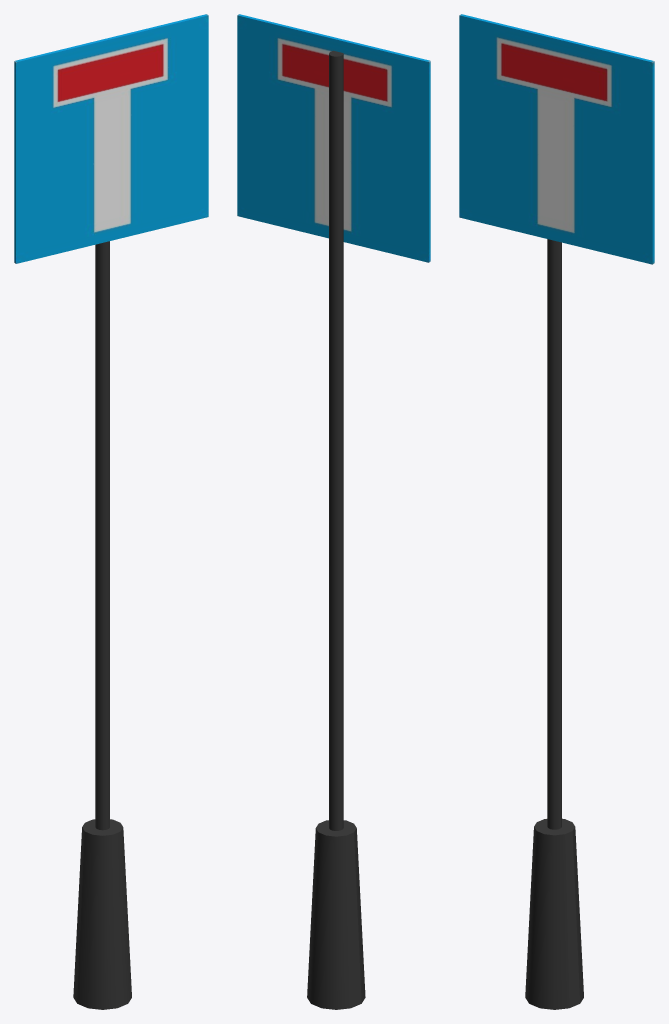
File: sign 3.FBX
3 views of the same model, side by side, from view 1: azimuth 30°, elevation 25°; view 2: azimuth 150°, elevation 25°; view 3: azimuth 330°, elevation 25° (orthographic).
Visible parts, largest first — view 1: Rectangle001, Cylinder021; view 2: Rectangle001, Cylinder021; view 3: Rectangle001, Cylinder021.
Boxes of the visible parts, x1,y1,x2,y2 form: Rectangle001: [14, 14, 208, 263]; Cylinder021: [73, 241, 131, 1009]; Rectangle001: [237, 14, 430, 262]; Cylinder021: [307, 50, 365, 1009]; Rectangle001: [459, 14, 654, 264]; Cylinder021: [525, 239, 583, 1009].
Size of the model in its own units: 60 by 286 by 15.85.
Materials: 2 (1 with a texture image).
